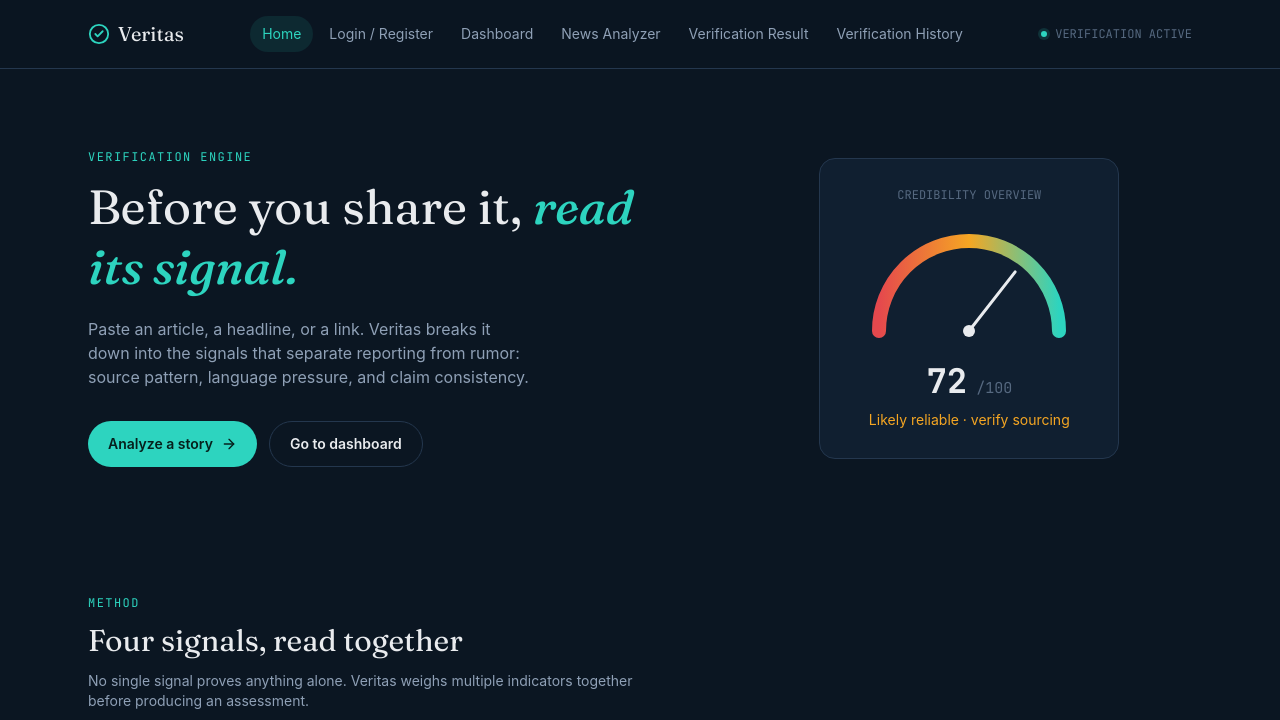
Test: Veritas app › logs in with correct credentials and lands on dashboard
Click the button "Login / Register" at coordinates (381, 34), box [317, 16, 445, 52]
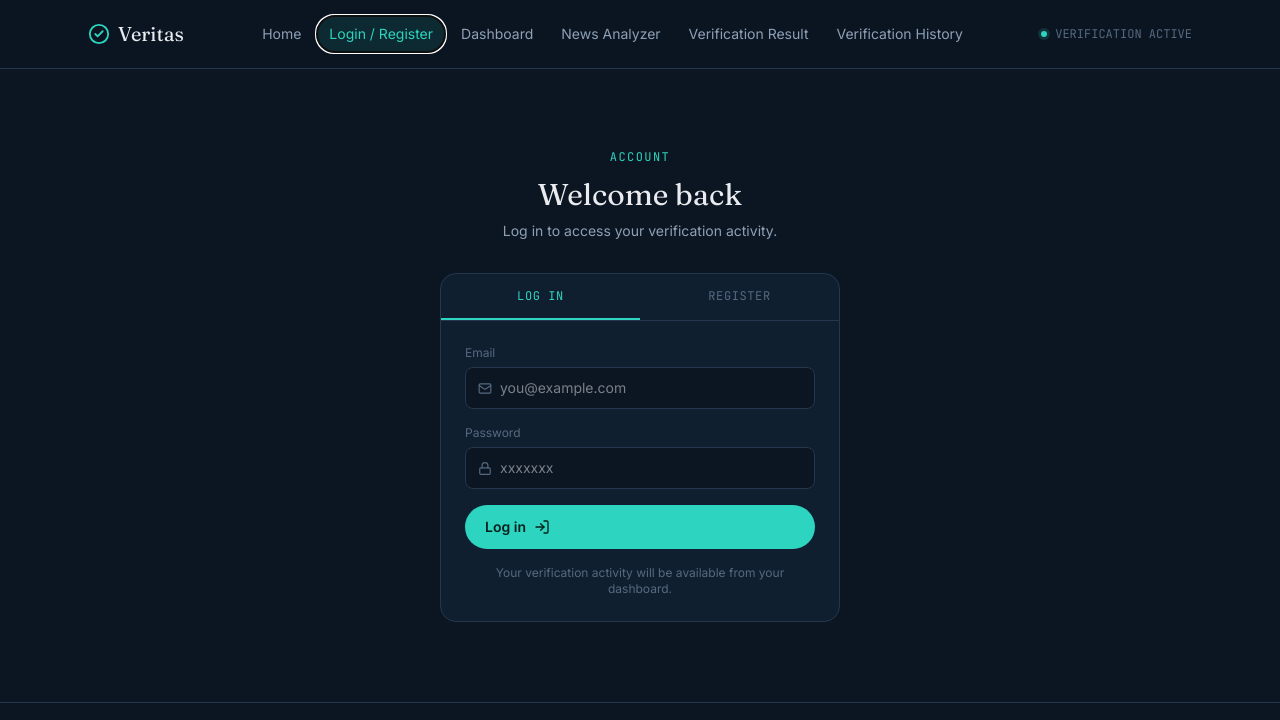
Type "admin@veritas.com" into the field with placeholder "you@example.com" at coordinates (651, 388), box [500, 378, 802, 398]
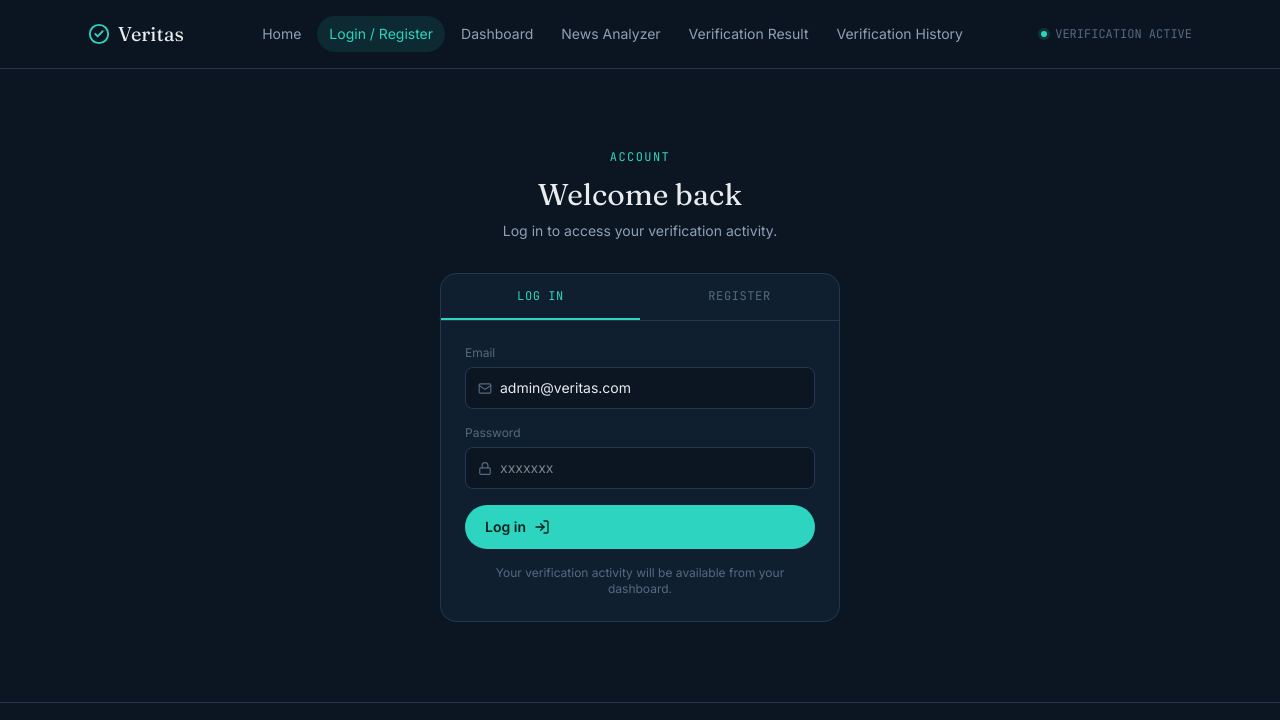
Submitting via Enter avoids the "Log in" tab vs "Log in" submit ambiguity
Type "Veritas@123" into the password field with placeholder "xxxxxxx" at coordinates (651, 468), box [500, 458, 802, 478]
Then press Enter
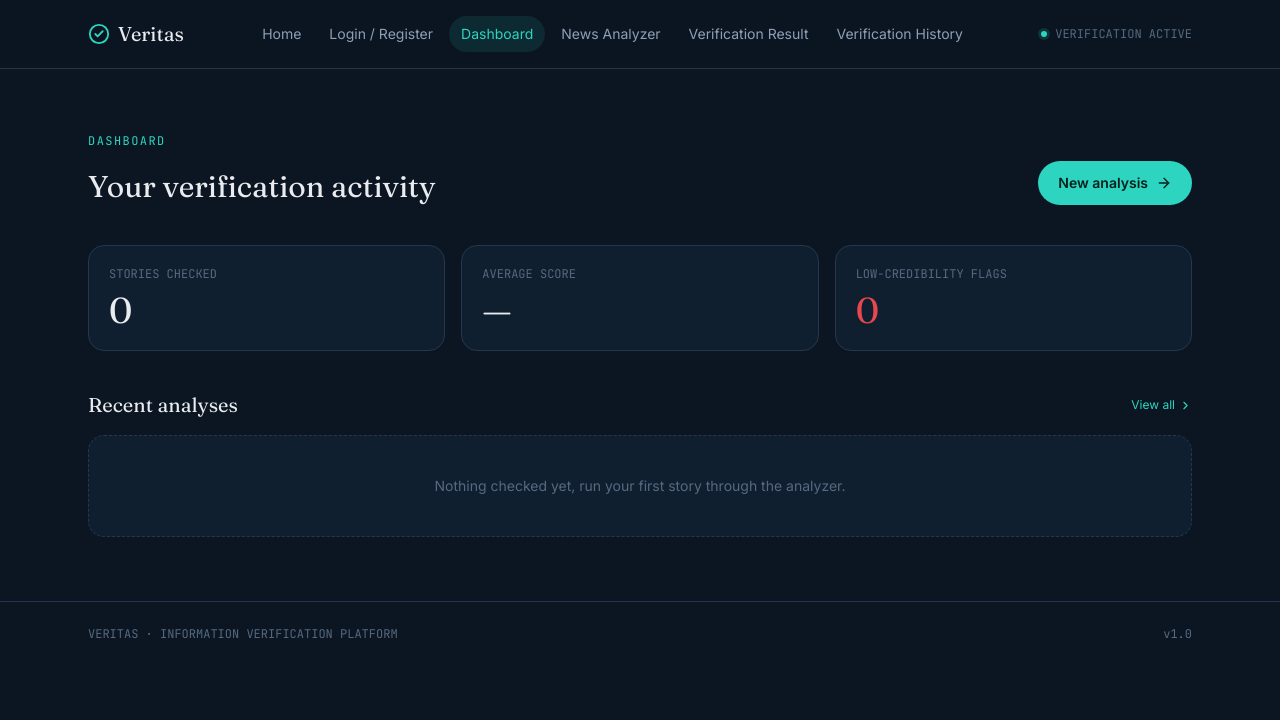
Expected: the heading "Your verification activity" is shown, [88, 169, 436, 205]
